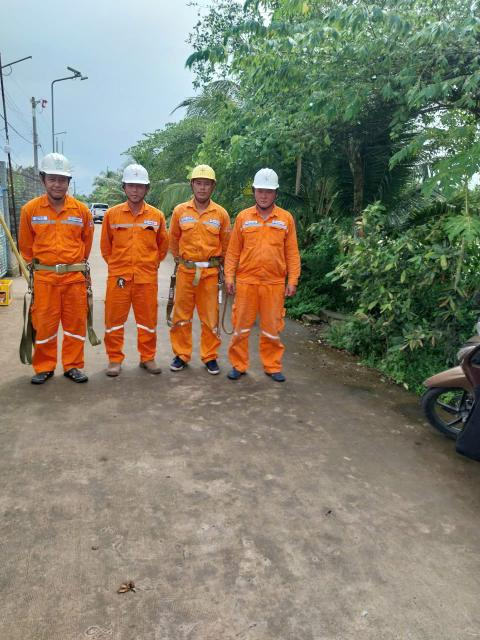harness: (27, 255, 91, 280), (175, 250, 222, 273)
helmet: (180, 156, 222, 192), (40, 153, 78, 180), (248, 165, 283, 194), (119, 162, 150, 193)
shoes: (102, 350, 123, 380), (137, 354, 162, 378), (63, 367, 85, 388), (169, 348, 187, 372), (31, 368, 55, 385), (268, 363, 287, 384), (228, 361, 245, 382), (209, 354, 221, 377)
